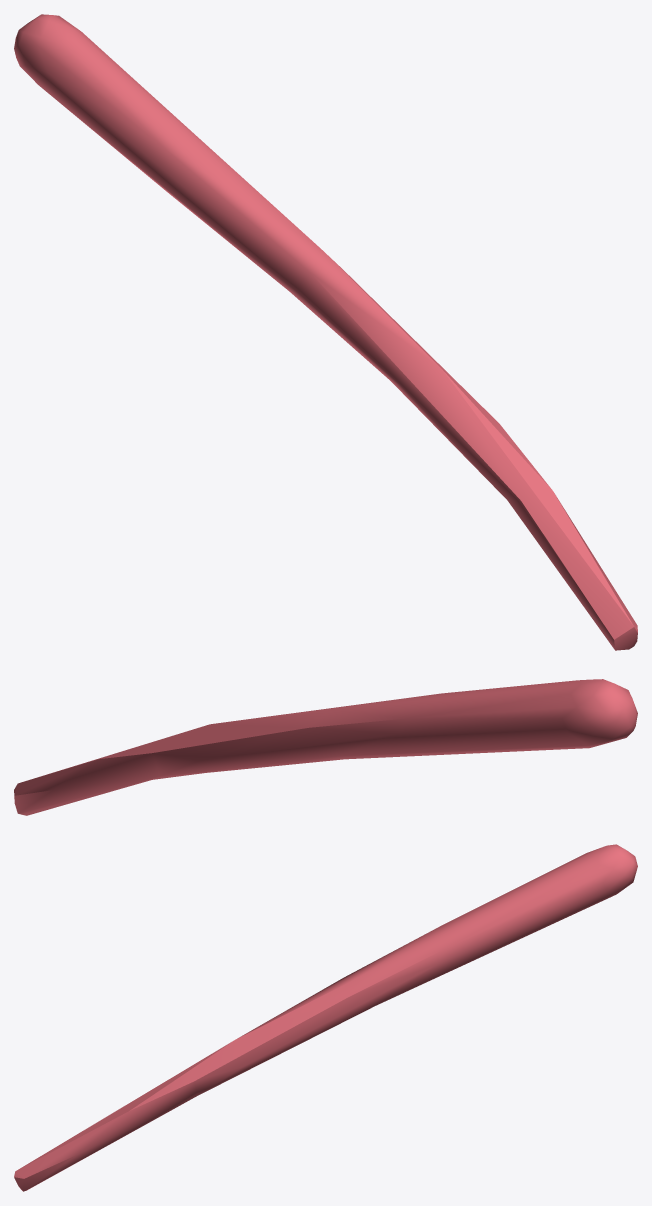
The model's file is fma8668_fj6007.glb.
The picture shows the model from 3 angles, top to bottom: view 1: azimuth 30°, elevation 25°; view 2: azimuth 210°, elevation 25°; view 3: azimuth 270°, elevation 25°; orthographic projection. The views are drawn at different scales.
Parts seen in each view (by area): view 1: FMA8668_FJ6007; view 2: FMA8668_FJ6007; view 3: FMA8668_FJ6007.
Boxes of the visible parts, x1=… form: FMA8668_FJ6007: x1=14, y1=14, x2=637, y2=650; FMA8668_FJ6007: x1=14, y1=679, x2=637, y2=815; FMA8668_FJ6007: x1=14, y1=844, x2=637, y2=1191.
Size of the model in its own units: 0.0113 by 0.0192 by 0.0387.
